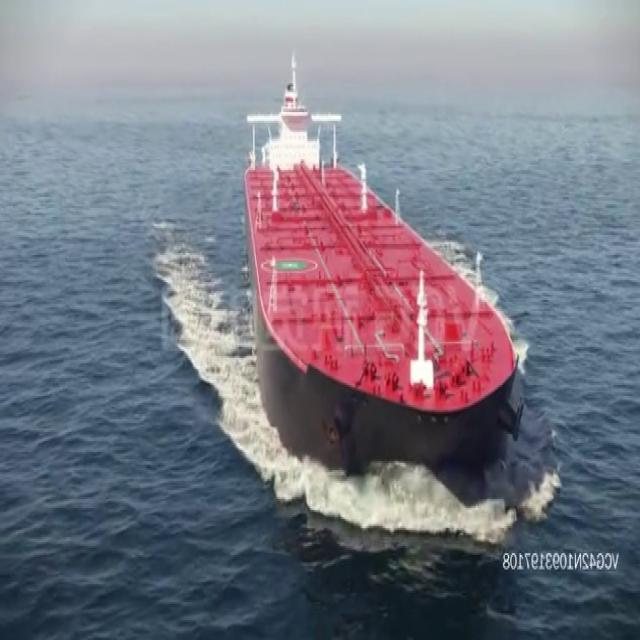cargoship: (238, 49, 517, 468)
